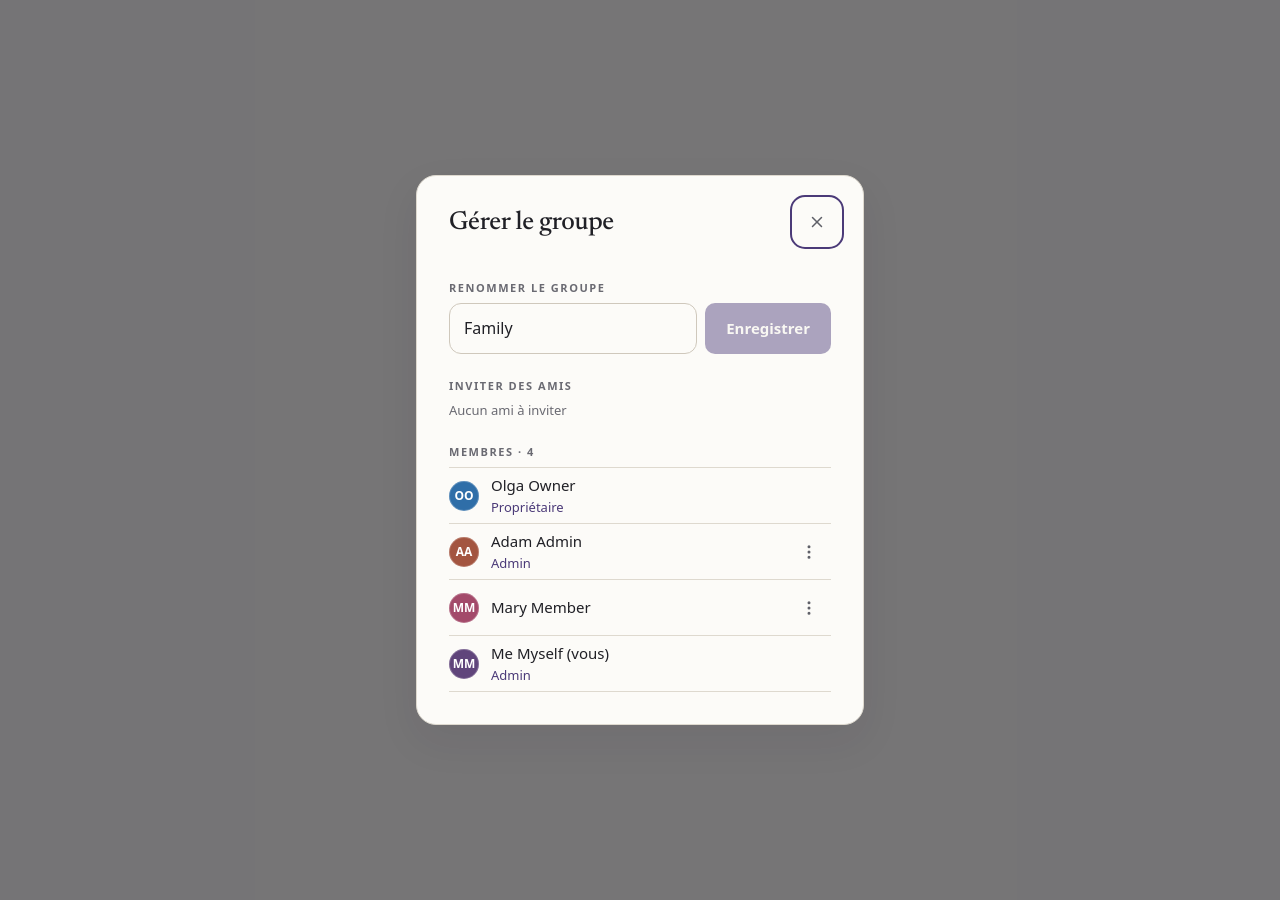
Scenario: GroupAdminModal — badges & action visibility › offers "Remove admin role" in a non-owner admin’s action menu
This screenshot has width=1280, height=900.
Expected: the text "Olga Owner" is shown, [491,475,576,495]
Click the button named "Actions du membre" in the row of "AA" at (809, 552), box [787,530,831,574]
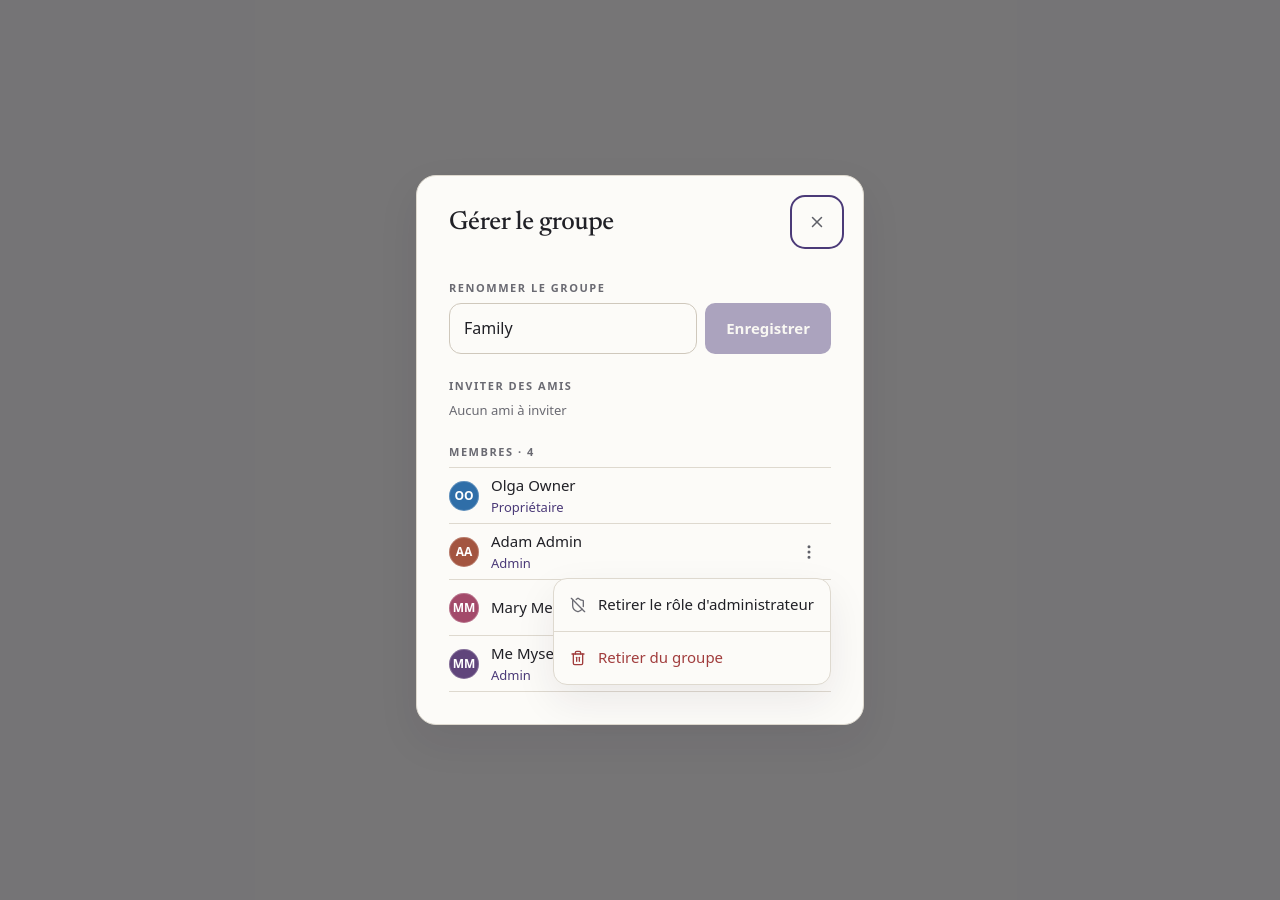
Expected: the menu item "Retirer le rôle d'administrateur" is shown, [554,583,830,627]
